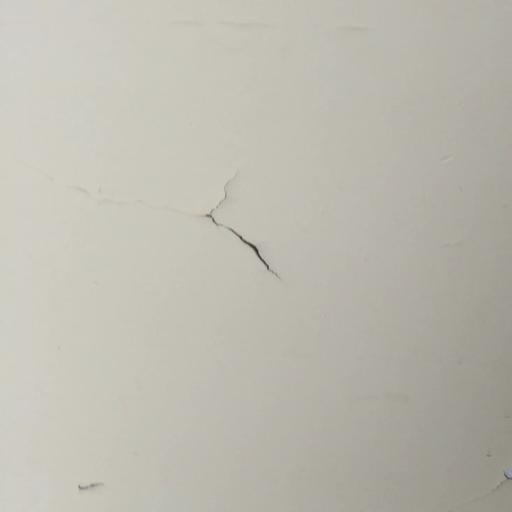peeling: (140, 161, 290, 282)
